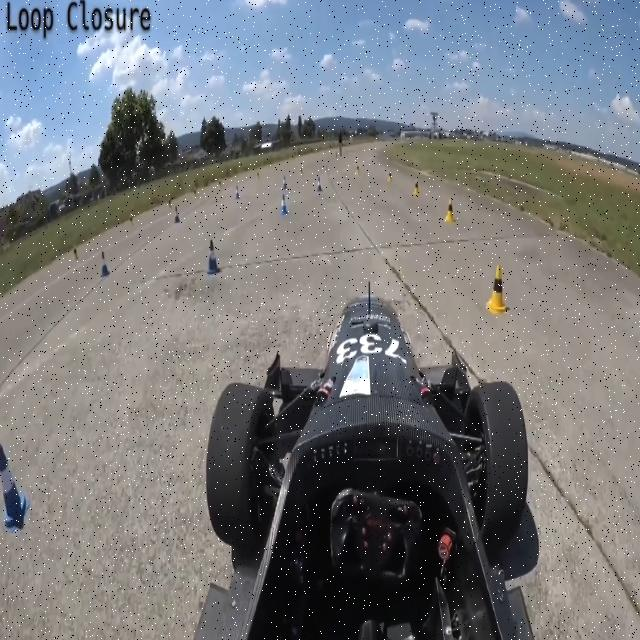blue_cone: (0, 443, 30, 533), (207, 238, 221, 278), (100, 251, 110, 277), (280, 192, 288, 216)
yellow_cone: (486, 264, 508, 316), (445, 197, 457, 225)
